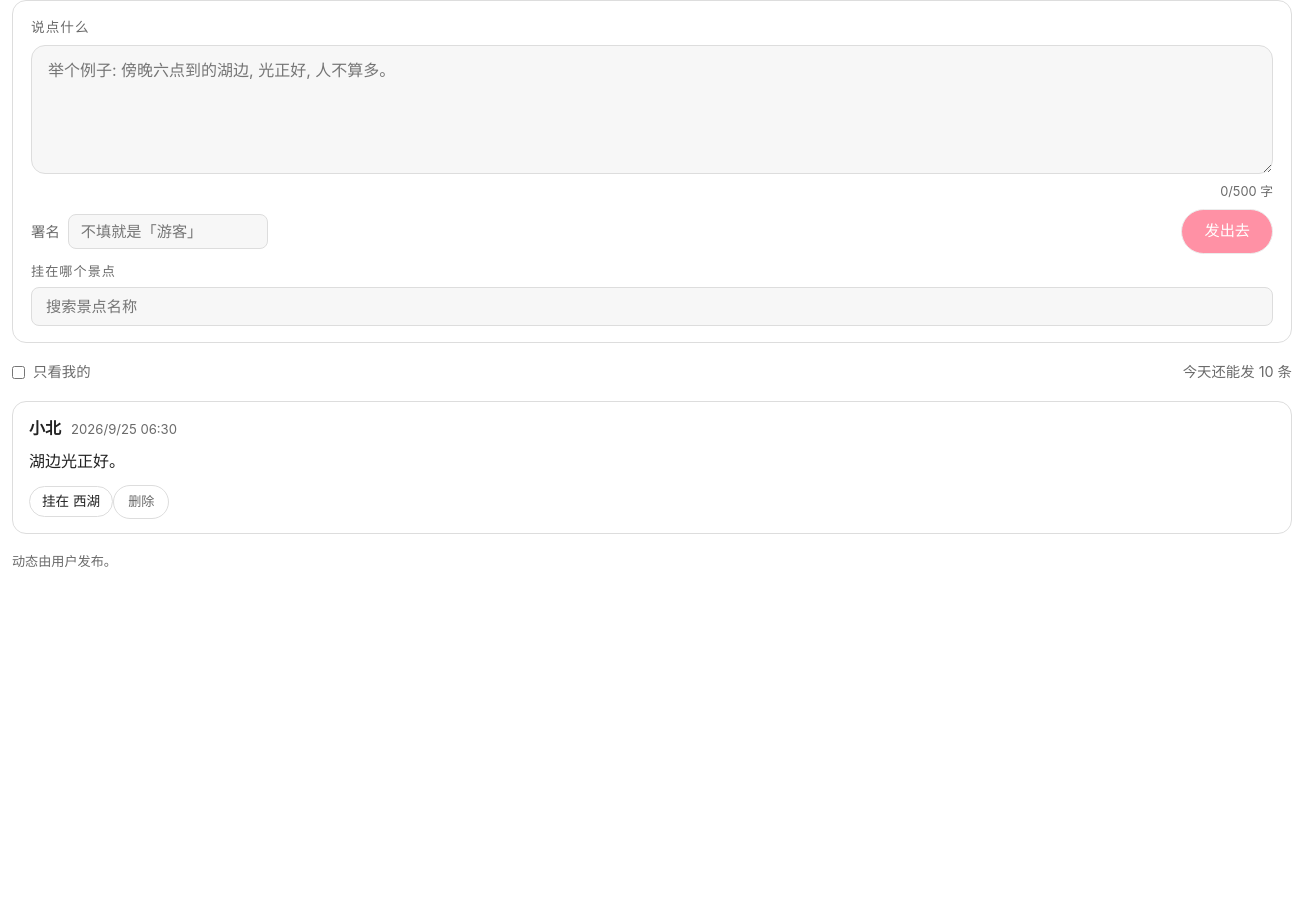
Scenario: PostsPage › 删除失败时给出提示, 不装作删掉了
The image size is (1304, 900).
Click the button "删除".
click(141, 502)  # box [113, 485, 169, 519]
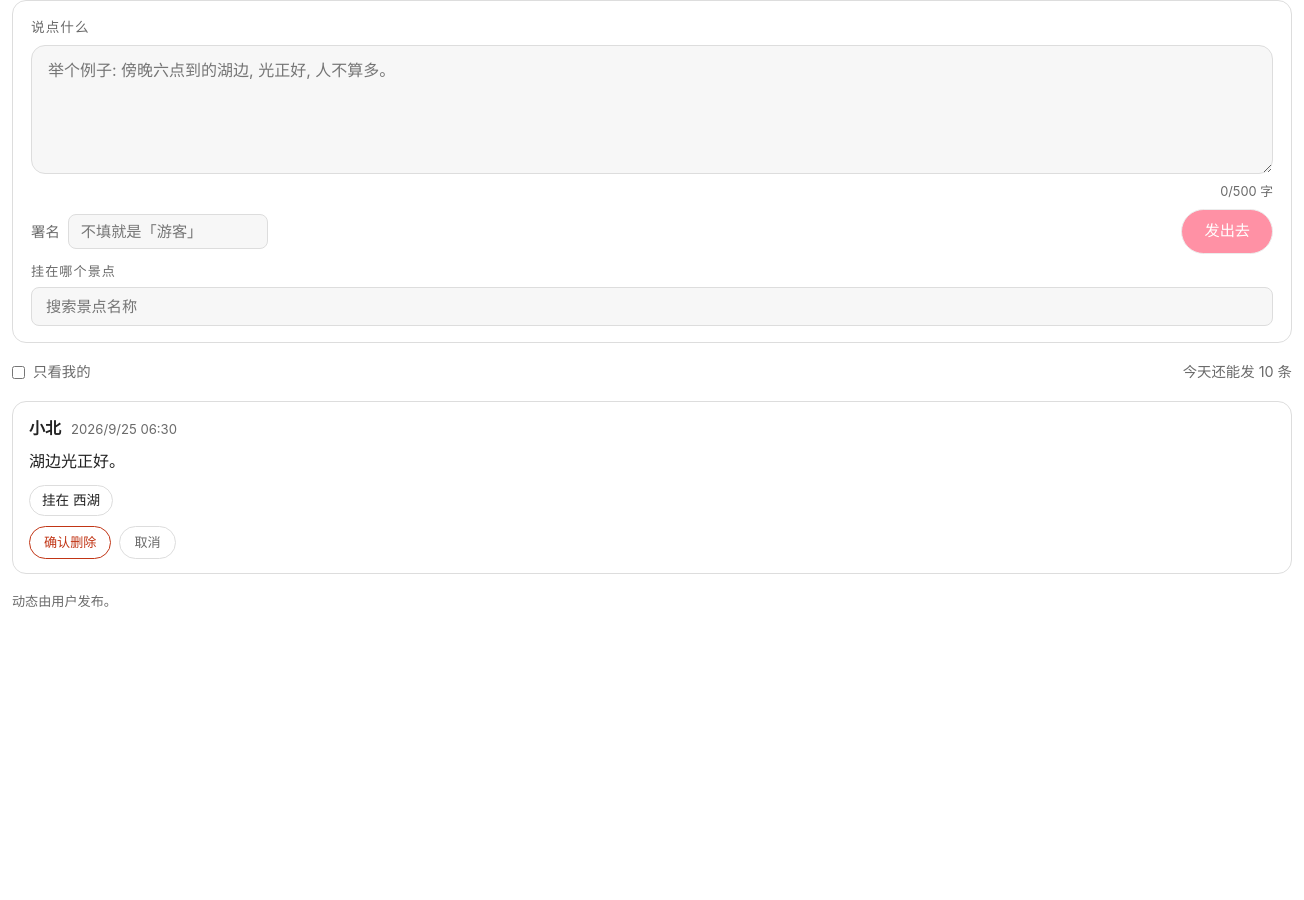
Click the button "确认删除".
click(70, 542)  # box [29, 526, 112, 559]
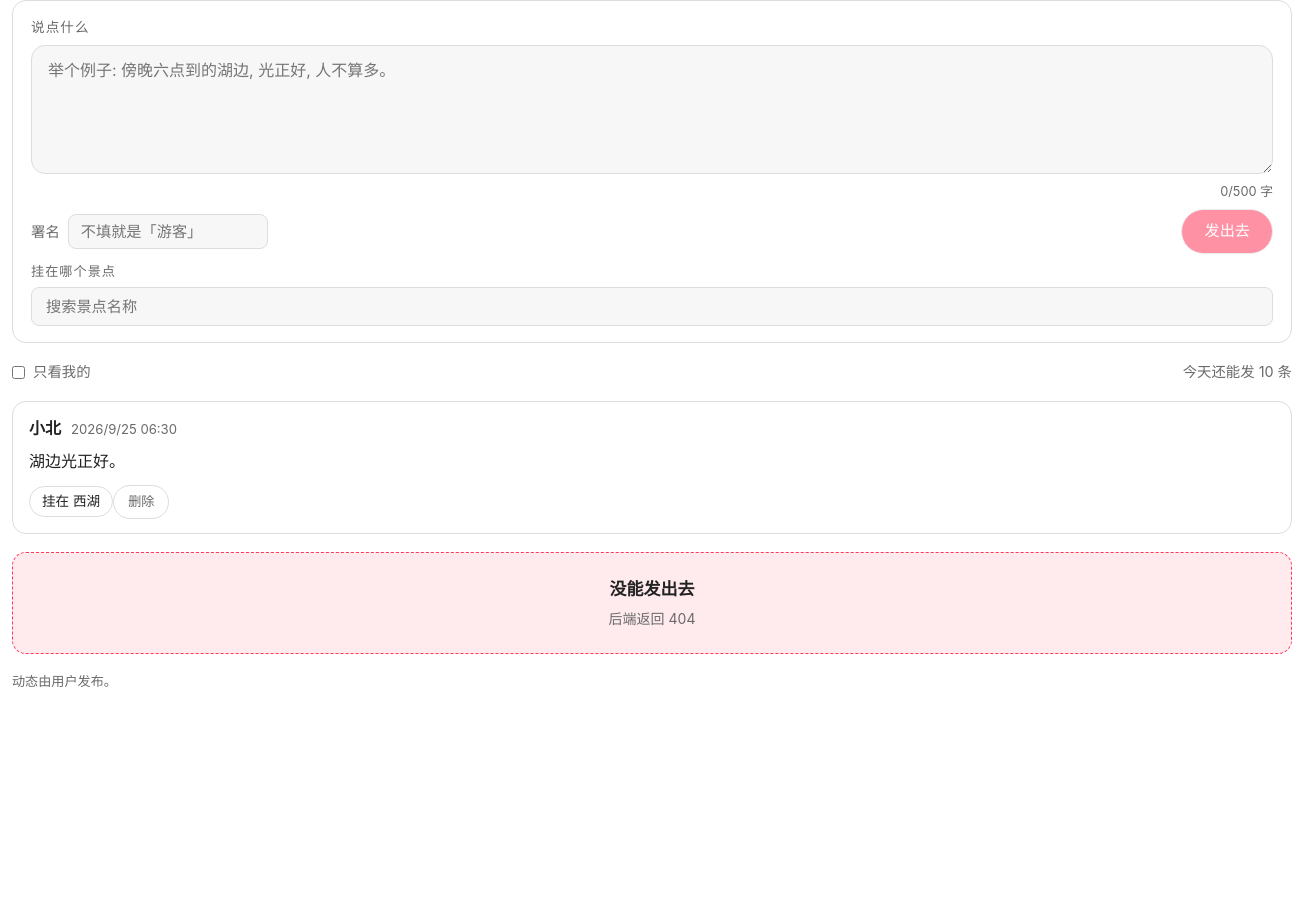
expect the text "后端返回 404" is shown: met, box [609, 610, 696, 627]
